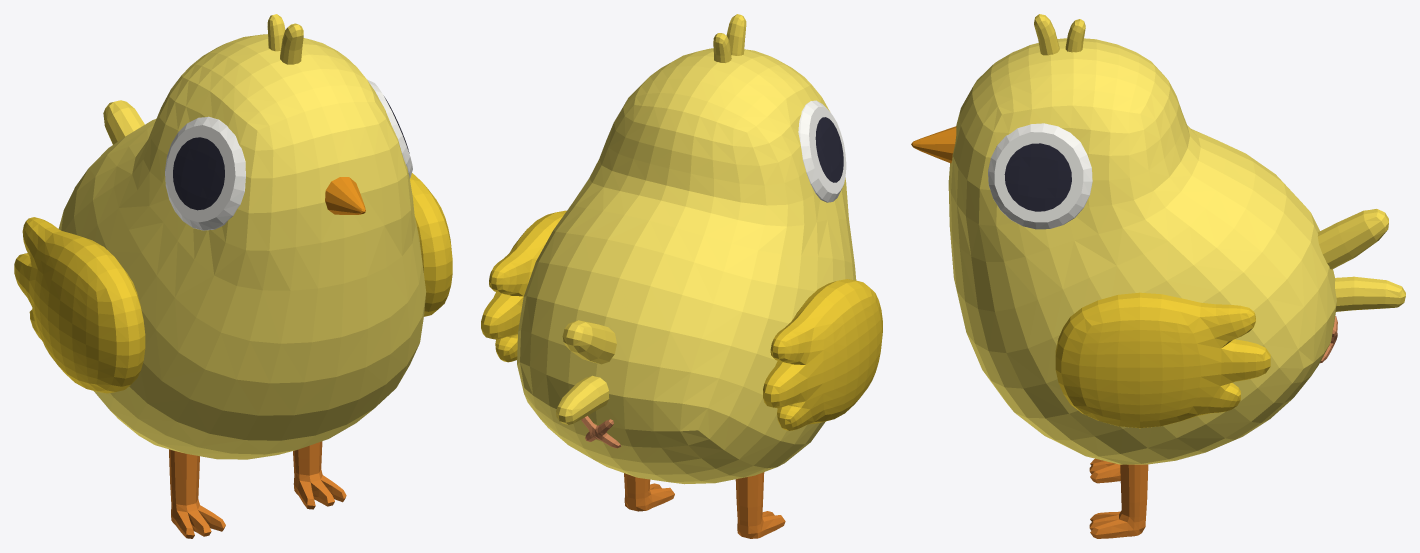
The model's file is Chick_LOD0.fbx.
3 renders of one model, left to right at view 1: azimuth 30°, elevation 25°; view 2: azimuth 150°, elevation 25°; view 3: azimuth 270°, elevation 25°, orthographic. The views are drawn at different scales.
Visible parts, largest first — view 1: Mesh; view 2: Mesh; view 3: Mesh.
Part boxes in pixels (bbox=[...]): Mesh: bbox=[14, 14, 452, 538]; Mesh: bbox=[481, 14, 882, 538]; Mesh: bbox=[911, 14, 1405, 538].
Size of the model in its own units: 121 by 163 by 149.
1 material, 1 textured.
